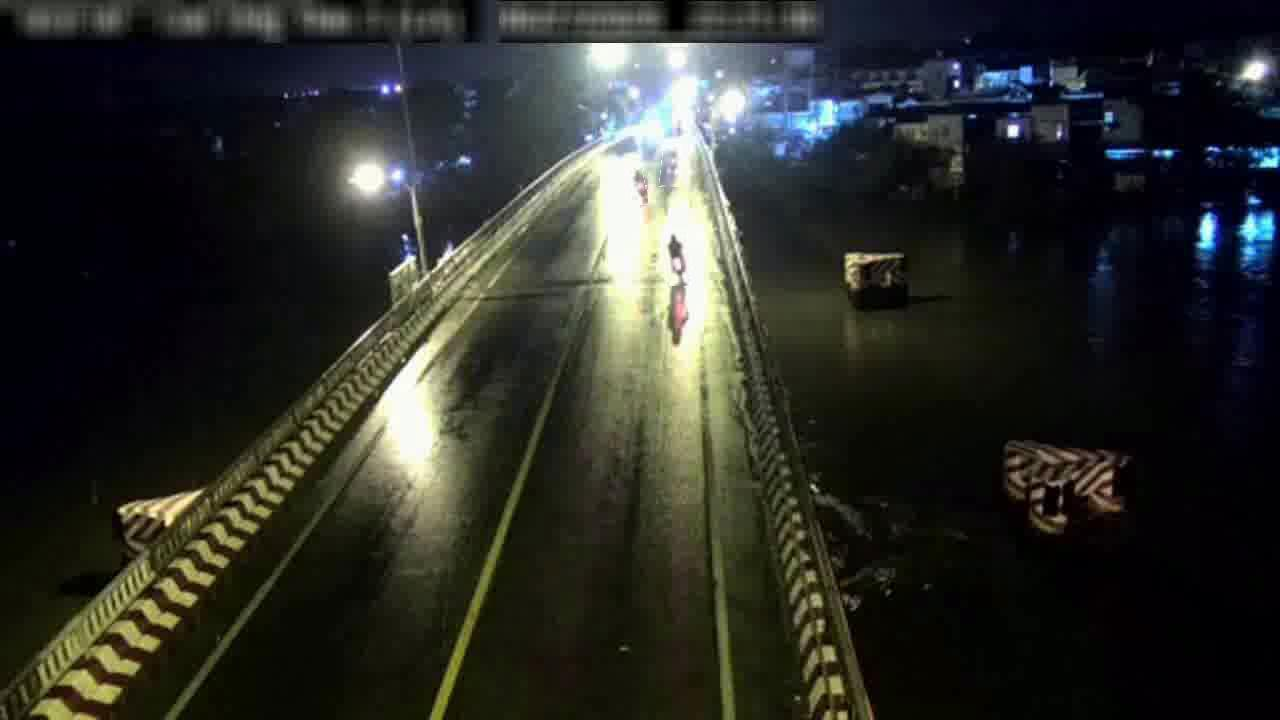motorbike: (663, 231, 692, 287), (661, 144, 683, 188), (632, 170, 648, 206)
